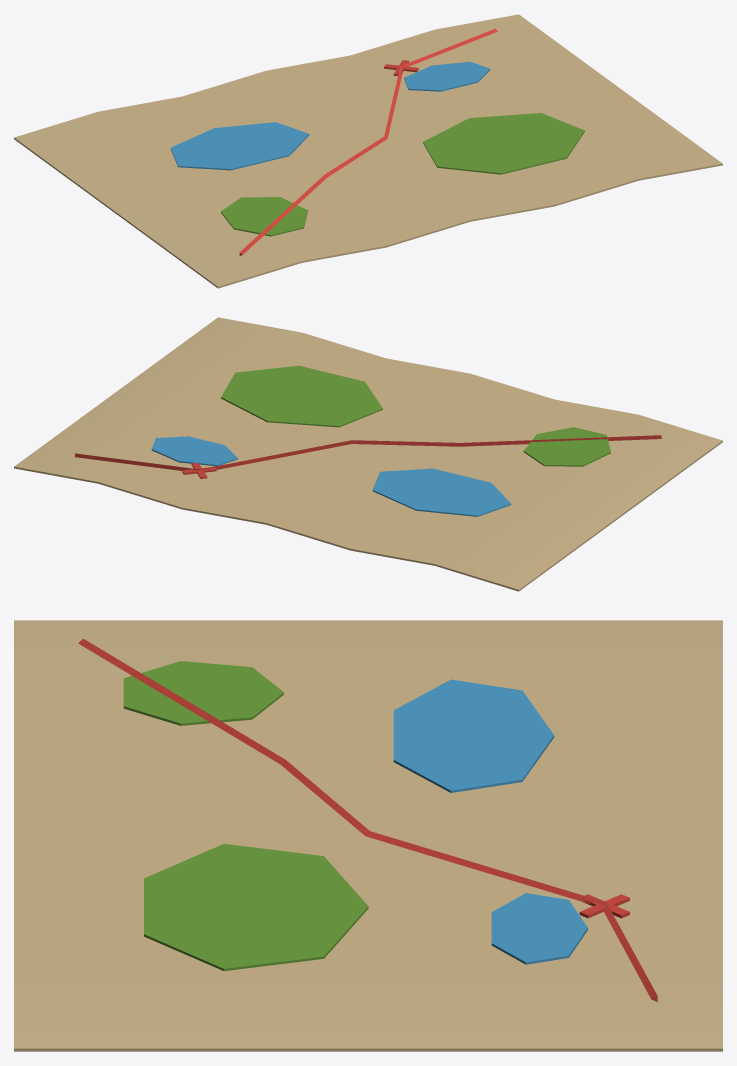
File: SM_Map_Open.glb
3 views of the same model, one above another, from view 1: azimuth 30°, elevation 25°; view 2: azimuth 150°, elevation 25°; view 3: azimuth 270°, elevation 25° (orthographic). The views are drawn at different scales.
Visible parts, largest first — view 1: SM_Map_Open; view 2: SM_Map_Open; view 3: SM_Map_Open.
Part boxes in pixels (x1=…): SM_Map_Open: x1=14, y1=14, x2=722, y2=288; SM_Map_Open: x1=14, y1=317, x2=722, y2=591; SM_Map_Open: x1=14, y1=620, x2=722, y2=1051.
Size of the model in its own units: 0.6 by 0.0132 by 0.42.
1 material, 1 textured.
